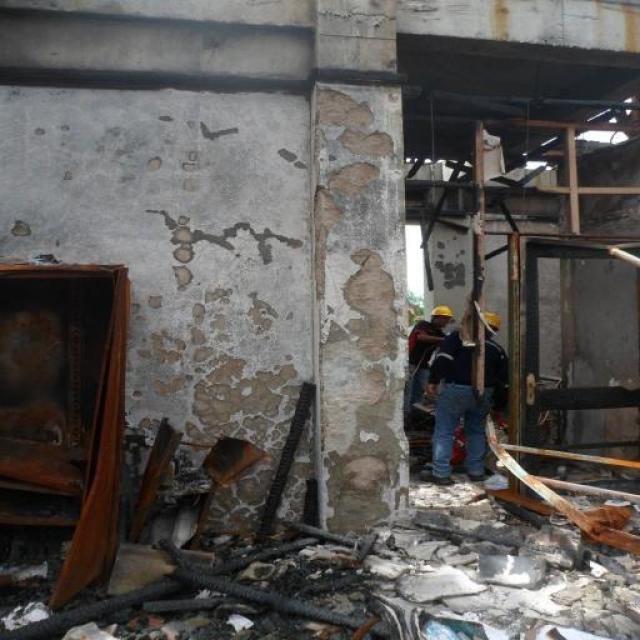D10: (322, 250, 396, 451), (315, 148, 380, 290), (316, 89, 392, 158), (340, 455, 388, 501)
